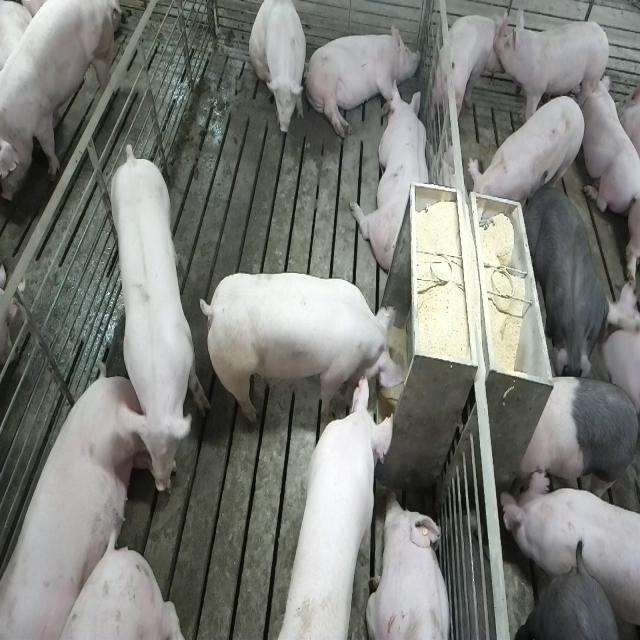Feeding: (198, 268, 408, 428), (278, 378, 398, 640)
Lateral_lying: (304, 19, 420, 140)
Sitting: (249, 1, 308, 144)
Standing: (104, 138, 204, 494), (500, 463, 638, 637), (0, 0, 117, 204), (524, 184, 608, 381), (516, 375, 638, 507), (472, 94, 589, 218), (494, 17, 614, 133), (516, 558, 625, 638), (438, 17, 503, 132)
Sternal_lying: (353, 79, 433, 274), (368, 492, 454, 640), (579, 70, 637, 220), (615, 64, 640, 155)
